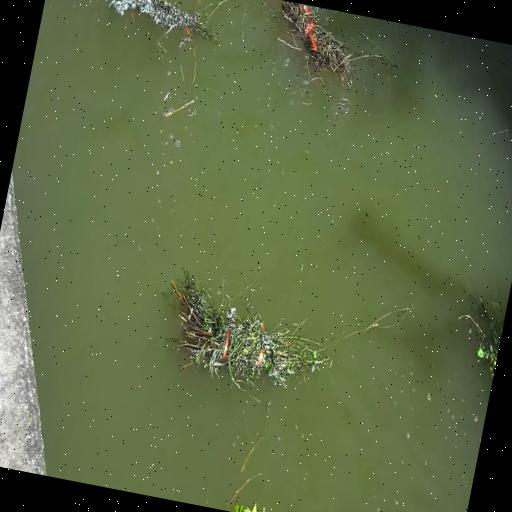twig: (160, 259, 330, 401), (268, 2, 369, 92), (91, 0, 224, 60), (210, 462, 287, 512), (460, 306, 506, 374)
